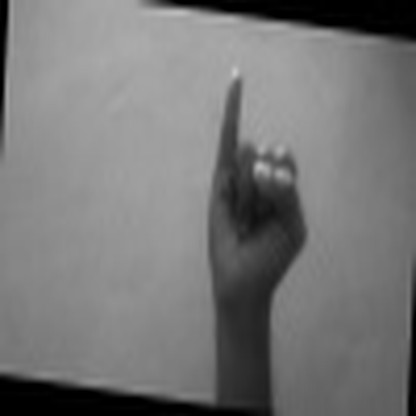i: (185, 57, 318, 292)
